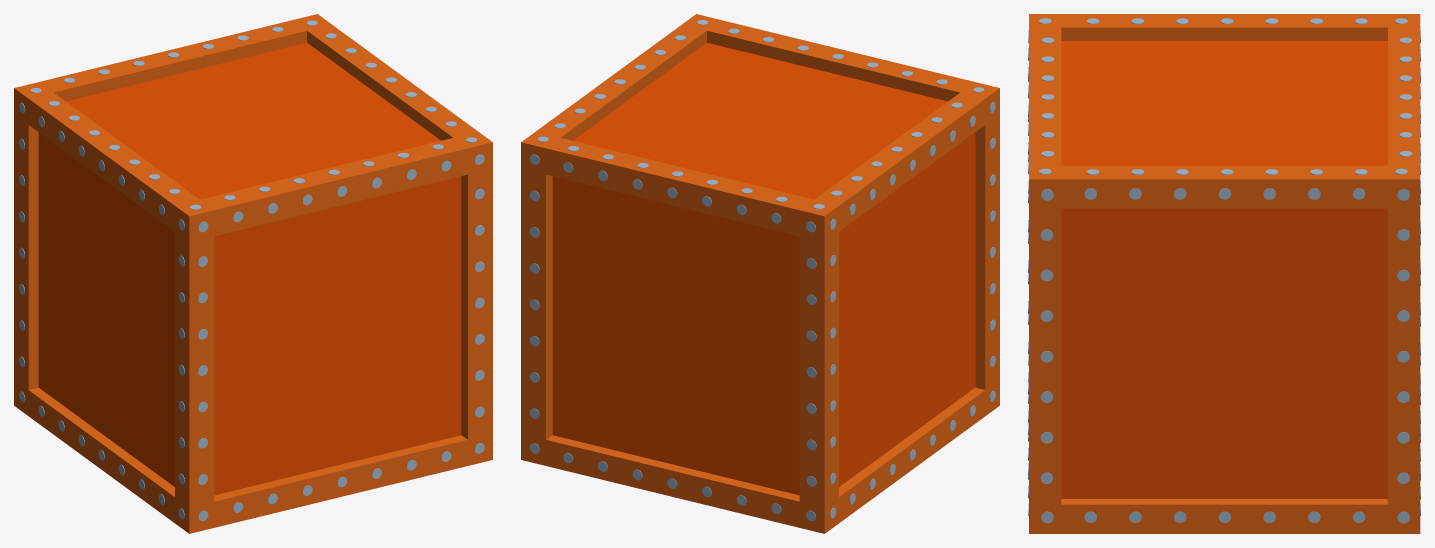
3 renders of one model, left to right at view 1: azimuth 30°, elevation 25°; view 2: azimuth 150°, elevation 25°; view 3: azimuth 270°, elevation 25°, orthographic. The views are drawn at different scales.
Parts seen in each view (by area): view 1: Cube.231; view 2: Cube.231; view 3: Cube.231.
Part boxes in pixels (left/top/right/bottom): Cube.231: left=14, top=14, right=492, bottom=533; Cube.231: left=521, top=14, right=999, bottom=533; Cube.231: left=1028, top=14, right=1420, bottom=533.
Size of the model in its own units: 201 by 201 by 201.
